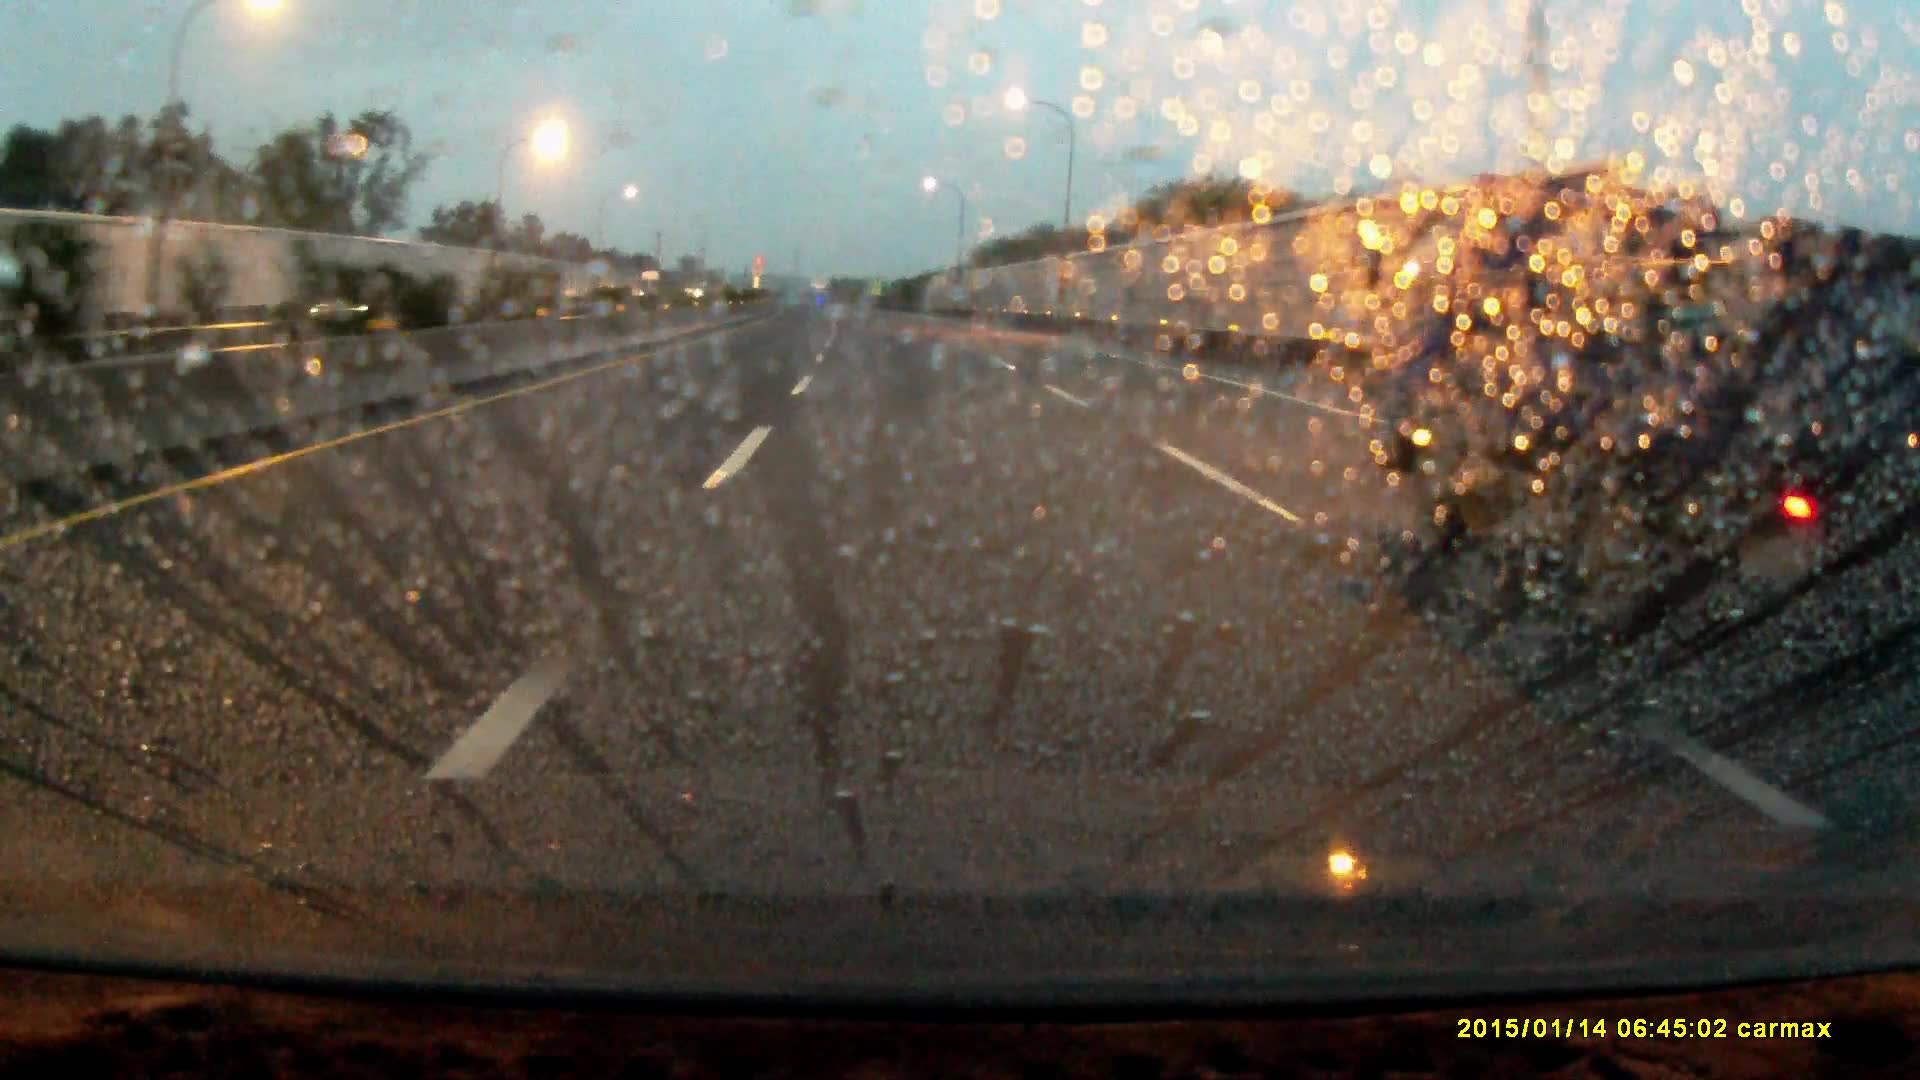vehicle: (1360, 179, 1920, 622), (313, 266, 425, 335), (641, 270, 667, 301)
